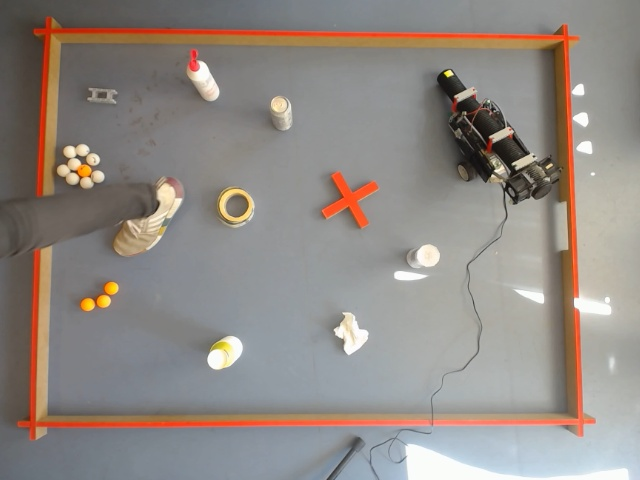orange: (269, 95, 292, 130), (92, 293, 111, 310), (96, 293, 115, 309), (79, 297, 96, 312), (103, 281, 119, 296)
robot: (434, 69, 564, 211)
white: (207, 337, 244, 371), (269, 95, 293, 131), (412, 244, 441, 269), (591, 469, 632, 480), (601, 467, 630, 480), (75, 143, 90, 158), (58, 164, 72, 180), (69, 155, 82, 172), (65, 171, 79, 186), (79, 175, 93, 190), (92, 168, 105, 183), (87, 151, 100, 166), (56, 163, 69, 177), (62, 144, 75, 158), (73, 144, 86, 158)
